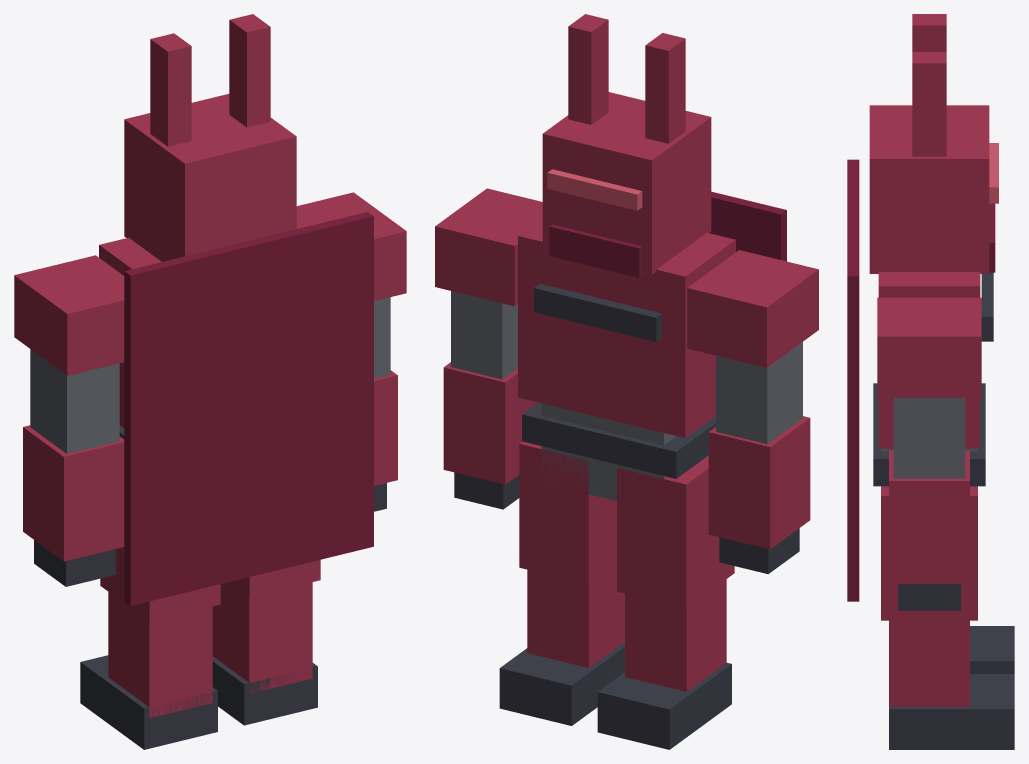
Rendered from crimson_knight_CRX9.glb.
3 renders of one model, left to right at view 1: azimuth 30°, elevation 25°; view 2: azimuth 150°, elevation 25°; view 3: azimuth 270°, elevation 25°, orthographic. The views are drawn at different scales.
Parts seen in each view (by area): view 1: cape, helmet, L_forearm, L_shoulder, L_shin, R_shin, L_upper_arm, L_boot, R_ear, L_ear, R_shoulder, R_boot (+6 smaller); view 2: torso, helmet, L_thigh, L_shoulder, L_forearm, R_thigh, R_shoulder, L_shin, R_forearm, R_shin, L_boot, L_upper_arm (+12 smaller); view 3: helmet, R_shoulder, R_forearm, R_shin, R_boot, R_upper_arm, cape, torso, R_ear, R_thigh, L_boot, belt (+5 smaller).
Boxes of the visible parts, bbox=[...] form: cape: bbox=[124, 212, 373, 605]; helmet: bbox=[124, 94, 296, 261]; L_forearm: bbox=[23, 425, 124, 561]; L_shoulder: bbox=[14, 255, 124, 375]; L_shin: bbox=[108, 592, 212, 717]; R_shin: bbox=[212, 582, 312, 693]; L_upper_arm: bbox=[30, 349, 119, 453]; L_boot: bbox=[80, 655, 217, 749]; R_ear: bbox=[229, 14, 270, 127]; L_ear: bbox=[150, 33, 191, 146]; R_shoulder: bbox=[296, 192, 406, 300]; R_boot: bbox=[212, 656, 317, 725]; torso: bbox=[518, 218, 735, 438]; helmet: bbox=[542, 92, 711, 274]; L_thigh: bbox=[617, 455, 734, 608]; L_shoulder: bbox=[687, 250, 818, 367]; L_forearm: bbox=[708, 416, 810, 549]; R_thigh: bbox=[519, 441, 616, 584]; R_shoulder: bbox=[435, 188, 542, 306]; L_shin: bbox=[625, 579, 726, 691]; R_forearm: bbox=[443, 362, 537, 484]; R_shin: bbox=[527, 564, 624, 667]; L_boot: bbox=[597, 663, 731, 749]; L_upper_arm: bbox=[716, 342, 802, 444]; helmet: bbox=[869, 105, 989, 273]; R_shoulder: bbox=[877, 297, 981, 397]; R_forearm: bbox=[889, 450, 969, 583]; R_shin: bbox=[889, 620, 969, 706]; R_boot: bbox=[889, 674, 1014, 749]; R_upper_arm: bbox=[893, 397, 965, 478]; cape: bbox=[847, 159, 859, 601]; torso: bbox=[878, 272, 980, 448]; R_ear: bbox=[912, 52, 946, 156]; R_thigh: bbox=[881, 486, 977, 620]; L_boot: bbox=[970, 626, 1014, 673]; belt: bbox=[873, 383, 985, 486].
Bounding box in the file's own units: 2.58 × 4.94 × 1.12.
